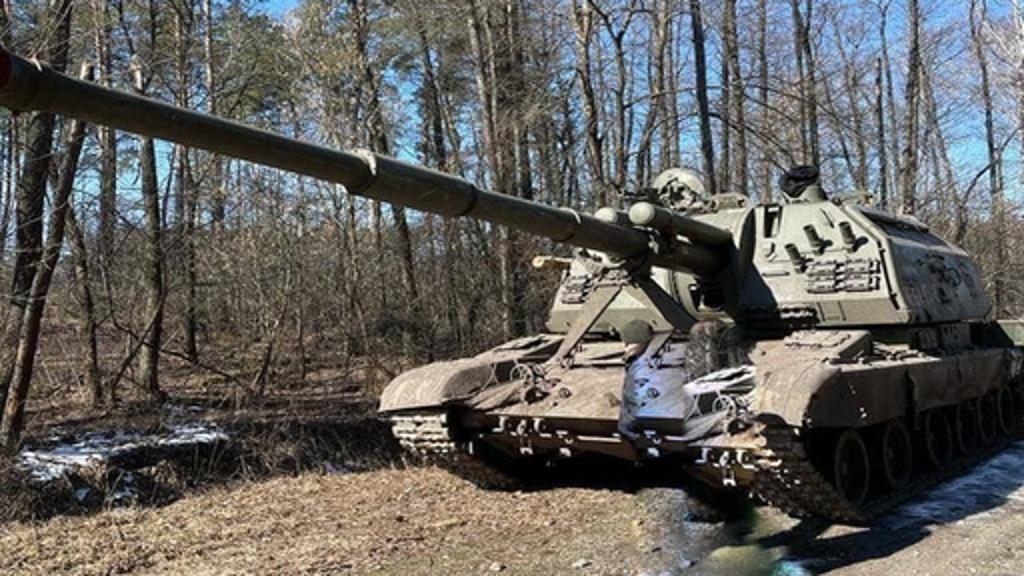ART: (0, 40, 1022, 524)
